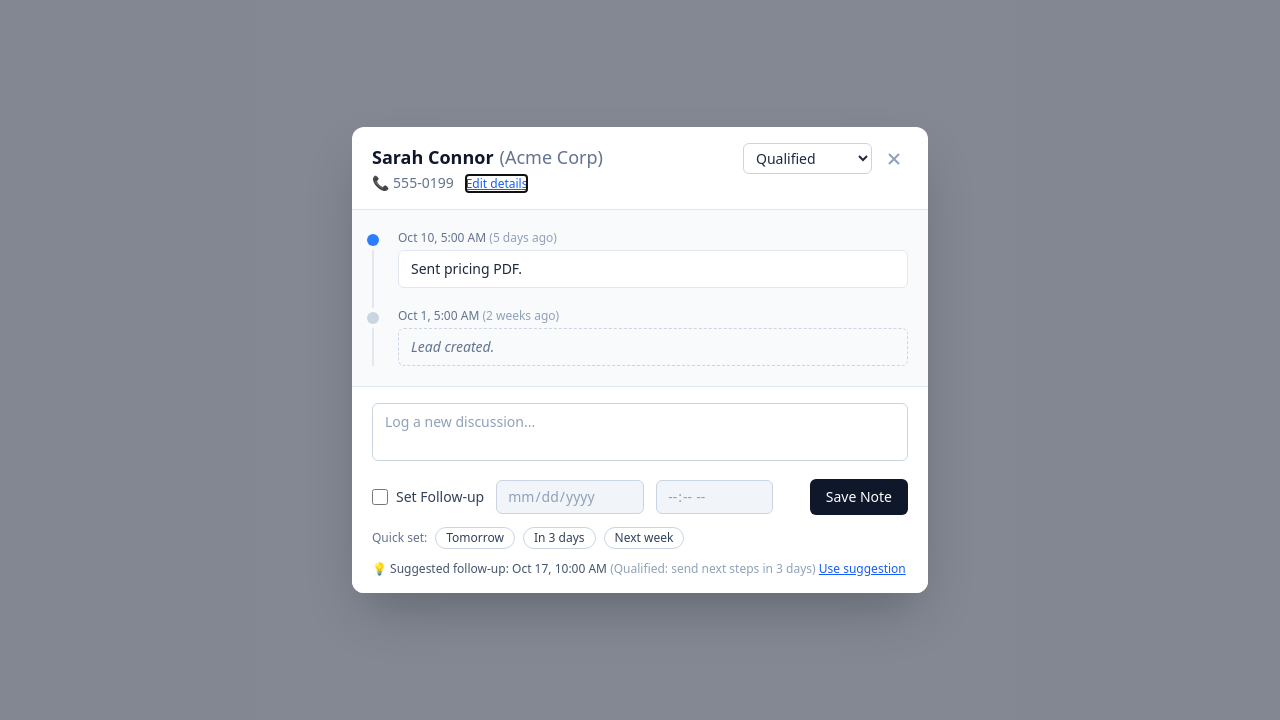
closing with unsaved input › asks before discarding a typed note, and can keep editing
Check: the text "Lead created." is shown, box [411,337,494,356]
Type "Half written" into the text box with placeholder "Log a new discussion..." at {"x": 640, "y": 432}, box [372,403,908,461]
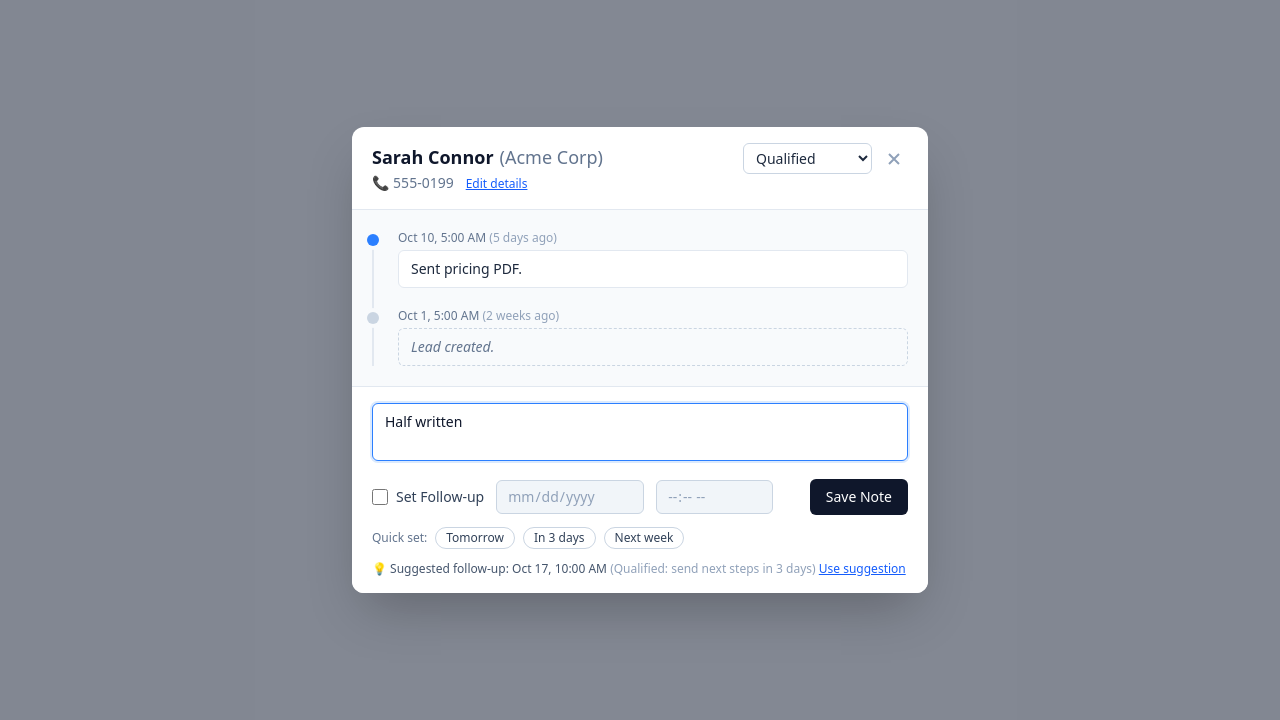
Click the button named "Close" at {"x": 894, "y": 158}, box [880,144,908,172]
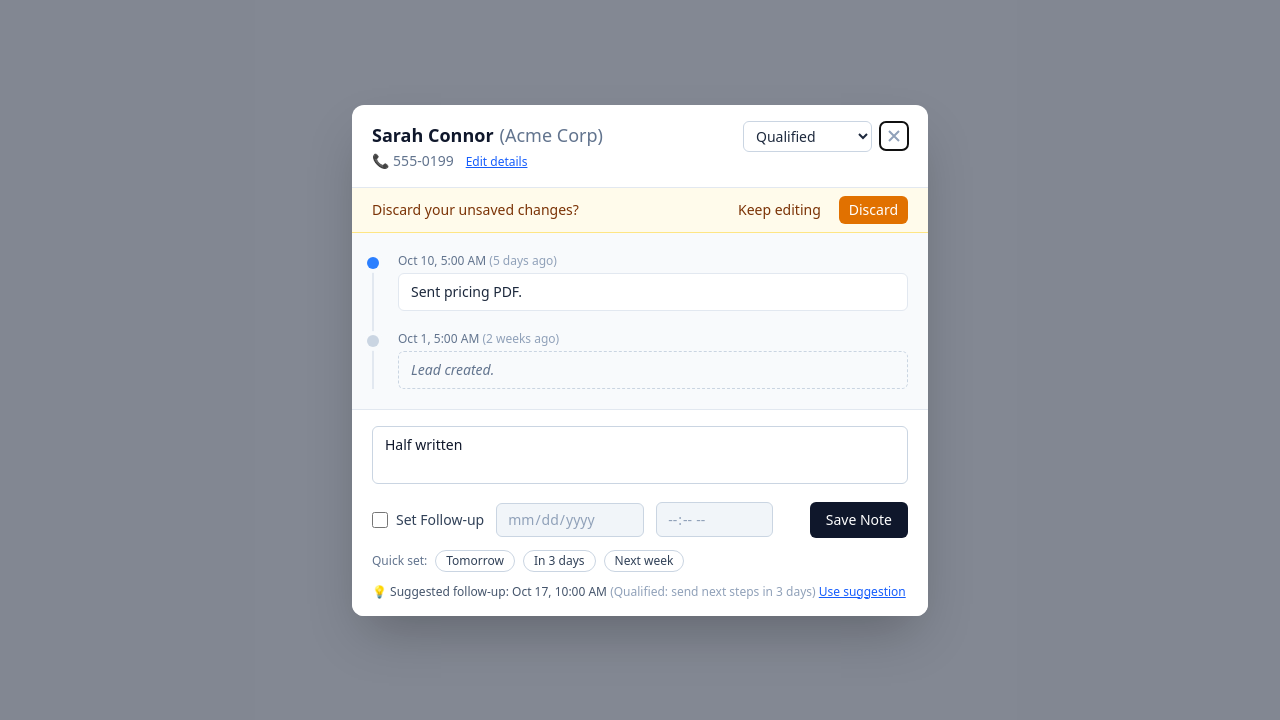
Check: the text "Discard your unsaved changes?" is shown, box [372,200,579,220]
Click the button "Keep editing" at {"x": 779, "y": 210}, box [728,196,831,224]
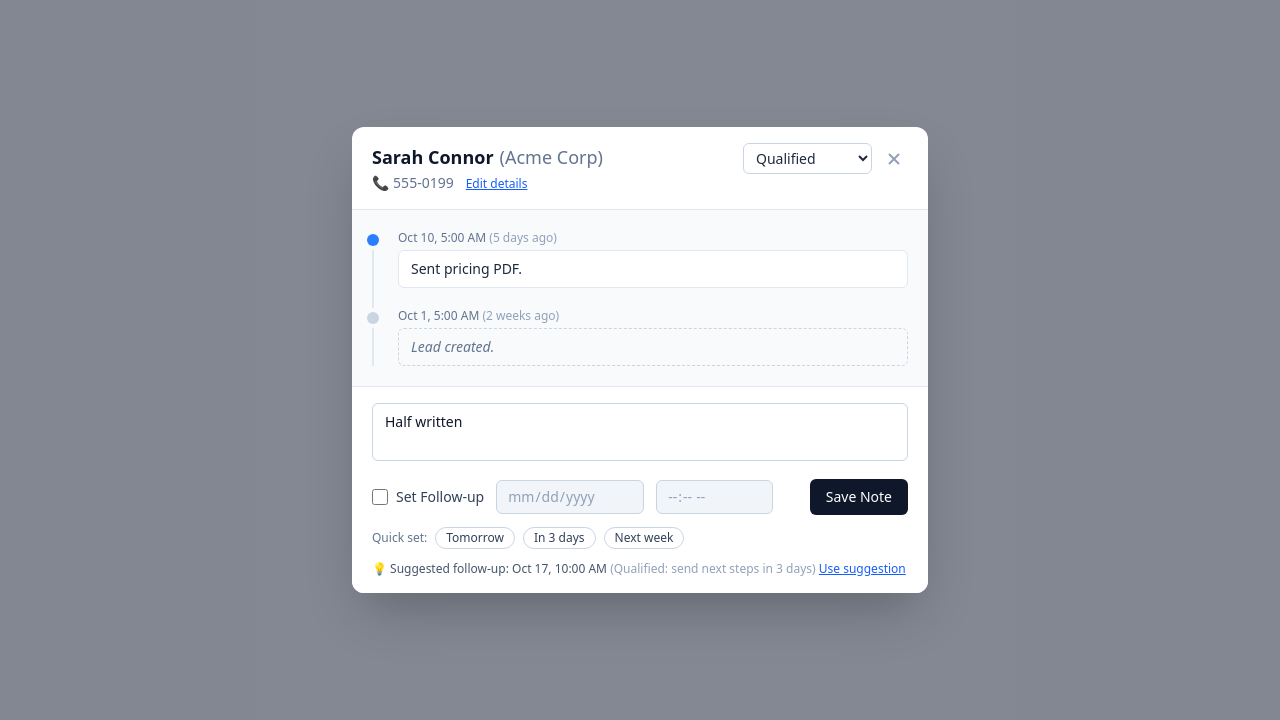
Check: the text "Discard your unsaved changes?" is gone
